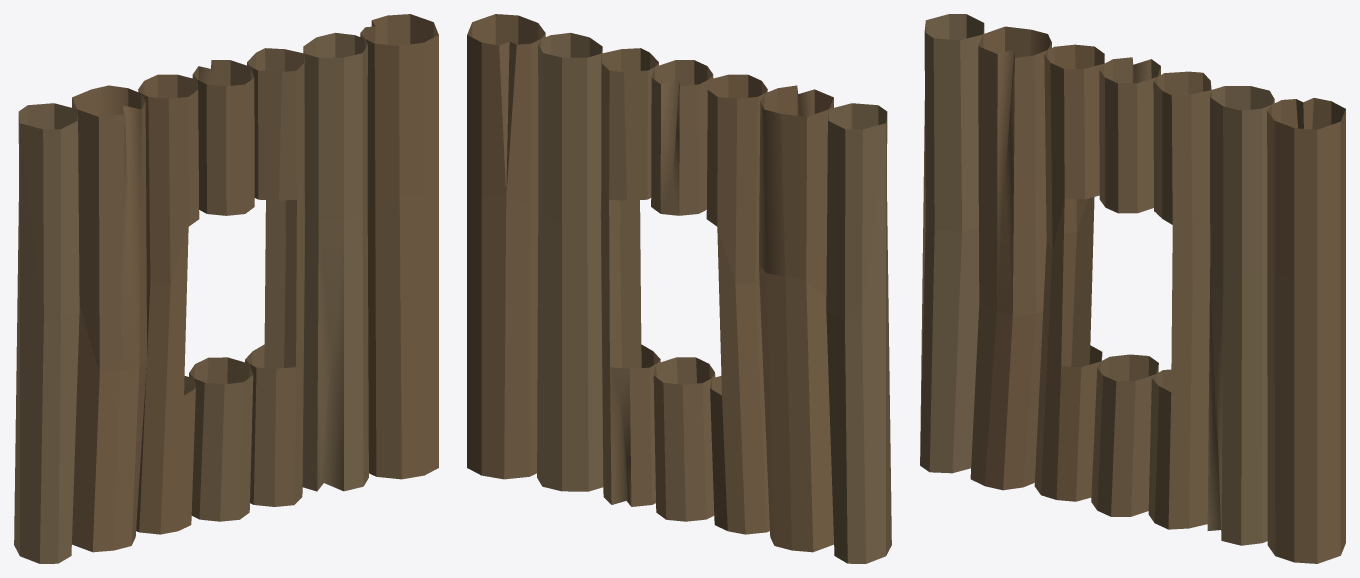
The model's file is rpgpp_ag_wall_02_3x3_window_d.fbx.
3 renders of one model, left to right at view 1: azimuth 30°, elevation 25°; view 2: azimuth 150°, elevation 25°; view 3: azimuth 330°, elevation 25°, orthographic.
Parts seen in each view (by area): view 1: rpgpp_ag_wall_02_3x3_window_d; view 2: rpgpp_ag_wall_02_3x3_window_d; view 3: rpgpp_ag_wall_02_3x3_window_d.
Boxes of the visible parts, x1,y1,x2,y2 form: rpgpp_ag_wall_02_3x3_window_d: [14, 14, 438, 563]; rpgpp_ag_wall_02_3x3_window_d: [467, 14, 891, 563]; rpgpp_ag_wall_02_3x3_window_d: [920, 14, 1345, 563].
Bounding box in the file's own units: 3 × 3 × 0.4626.
